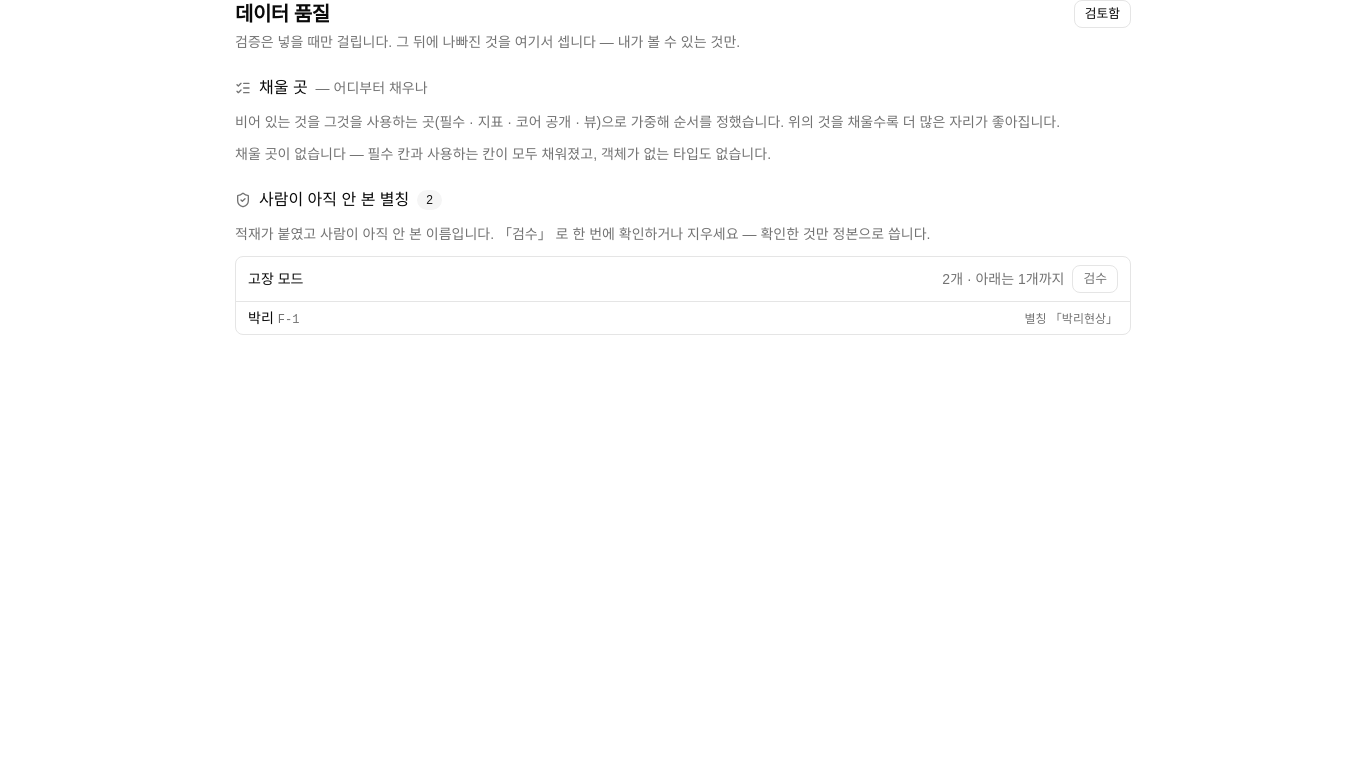
Test case: 데이터 품질 › 검수 대기 별칭은 창에서 한 번에 확인한다
Check: the heading "사람이 아직 안 본 별칭 2" is shown, box [235, 190, 442, 210]
Click the button "검수": (1095, 279) [1072, 265, 1118, 293]
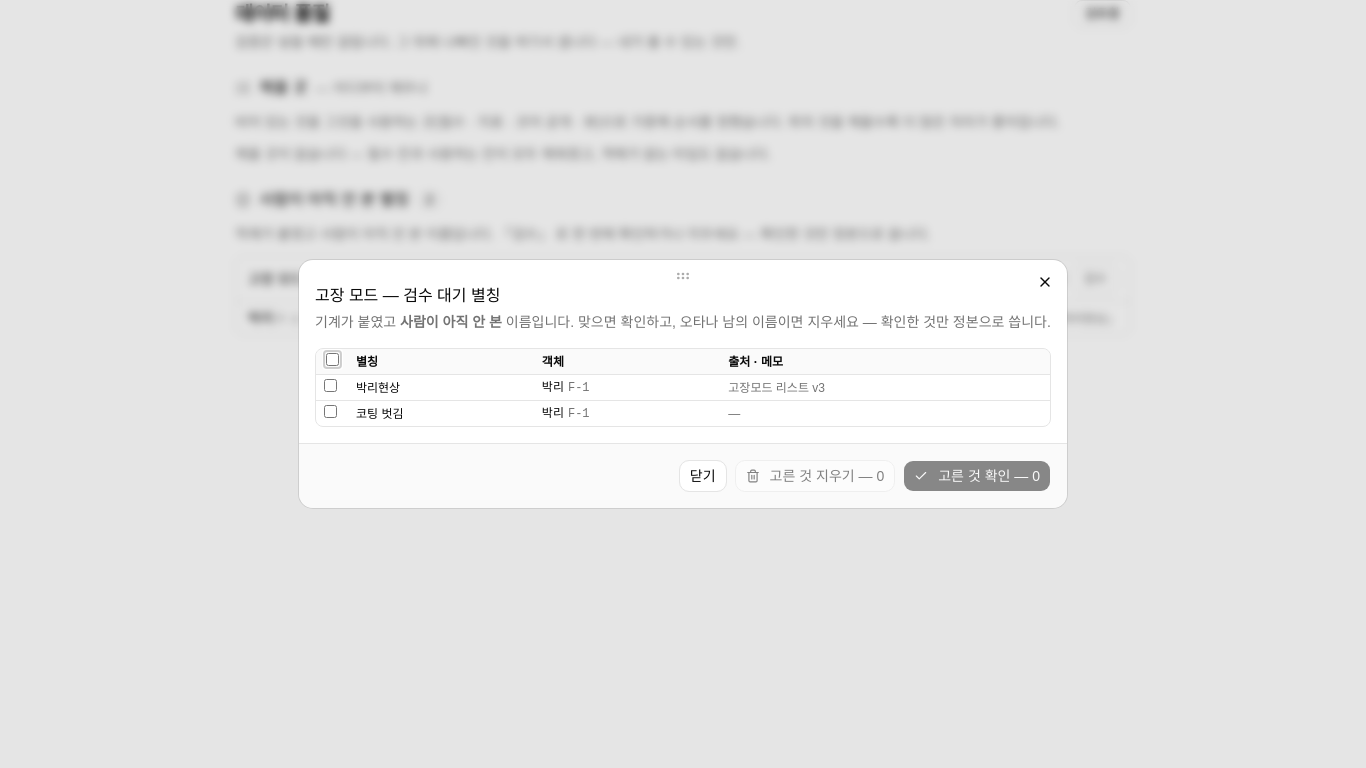
Check: the text "박리현상" is shown, box [348, 374, 534, 400]
Check: the text "고장모드 리스트 v3" is shown, box [720, 374, 1050, 400]
**한 번에 고른다** — 한 줄씩 누르게 하면 끝까지 보는 사람이 없다.
Click the checkbox named "전부 고르기": (332, 360) [326, 353, 338, 366]
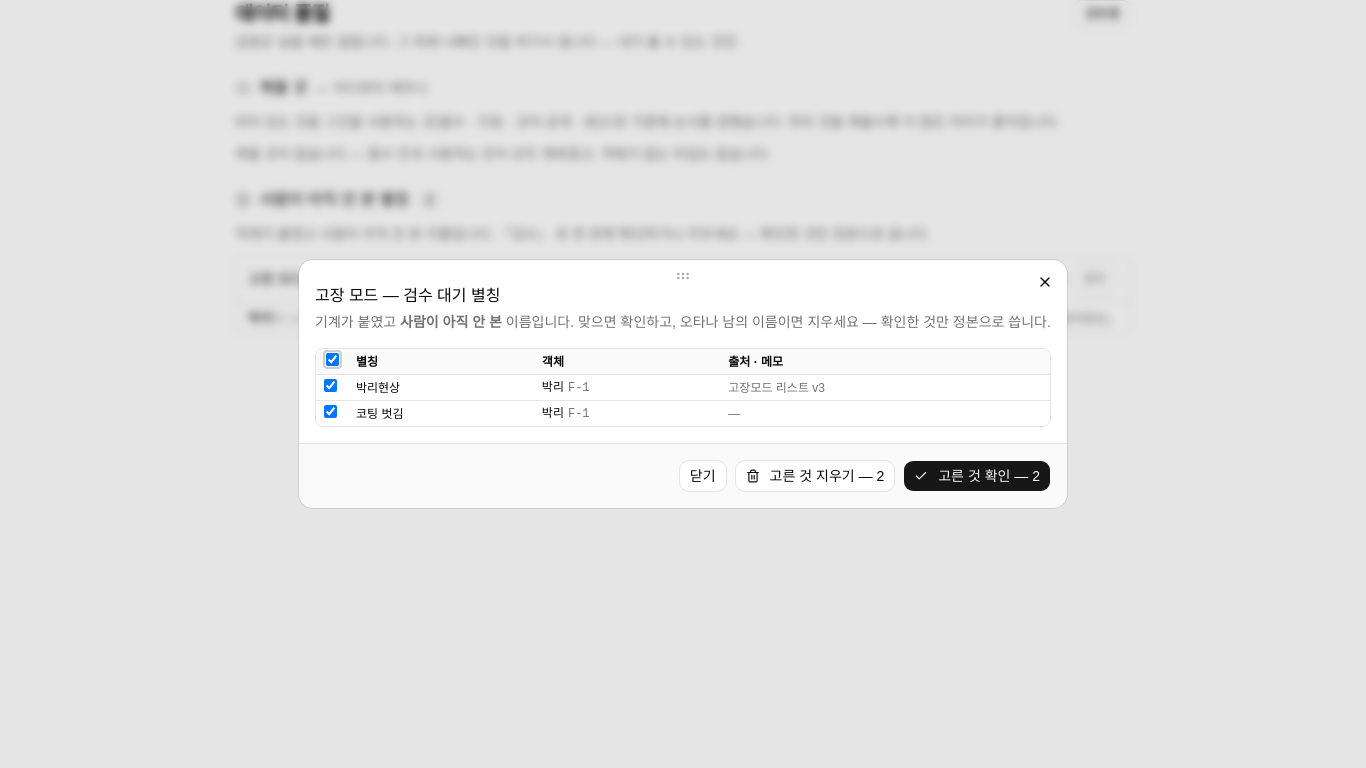
Click the button "고른 것 확인 — 2": (977, 476) [903, 460, 1051, 492]
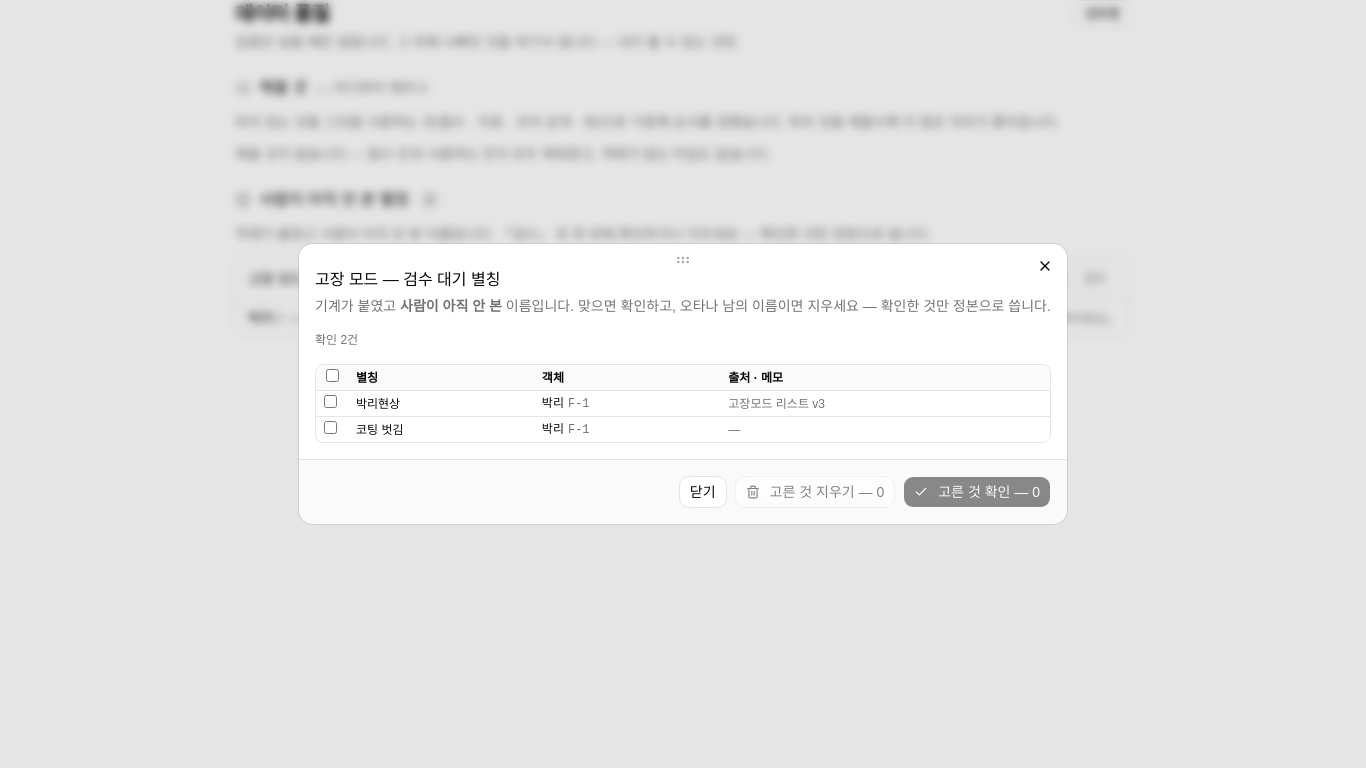
Check: the text "확인 2건" is shown, box [315, 333, 358, 347]
